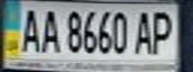0: (109, 8, 133, 55)
6: (78, 7, 100, 54), (96, 8, 115, 55)
8: (63, 7, 84, 54)
A: (15, 4, 42, 54), (36, 6, 60, 54), (133, 8, 157, 55)
P: (148, 7, 178, 55)
